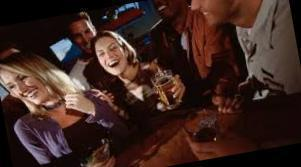Drunk: (1, 66, 46, 105), (95, 38, 126, 74)
